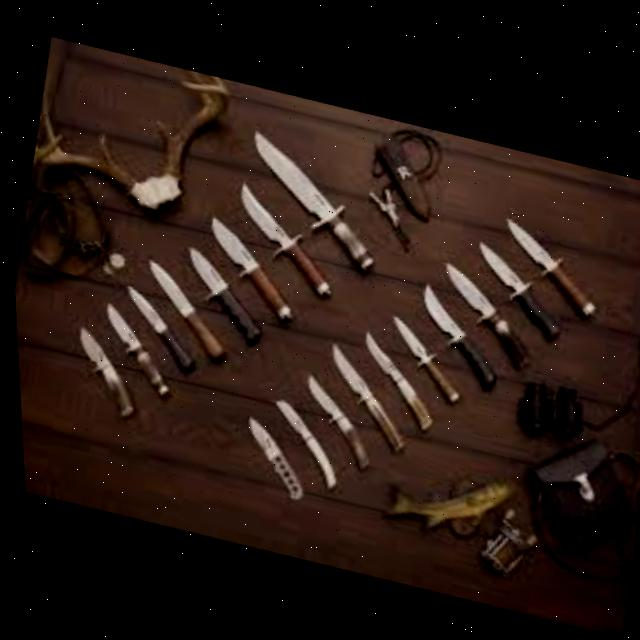Knife: (231, 124, 392, 268), (221, 177, 344, 295), (487, 209, 607, 315), (423, 254, 537, 364), (193, 210, 304, 320), (310, 336, 416, 449), (461, 232, 571, 336), (405, 277, 508, 385), (129, 254, 235, 358), (169, 241, 270, 342), (346, 325, 443, 428), (287, 367, 378, 468), (88, 298, 181, 395), (110, 281, 203, 372), (256, 392, 344, 487), (375, 309, 467, 398), (61, 322, 143, 418), (229, 410, 309, 497)
